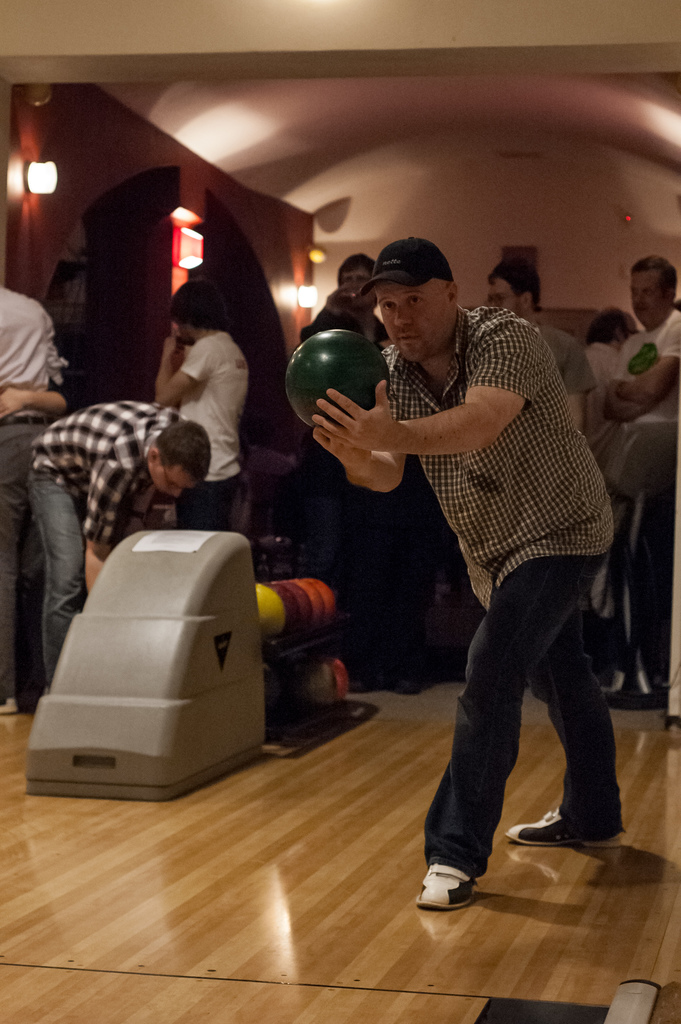Ball: (286, 333, 388, 430)
